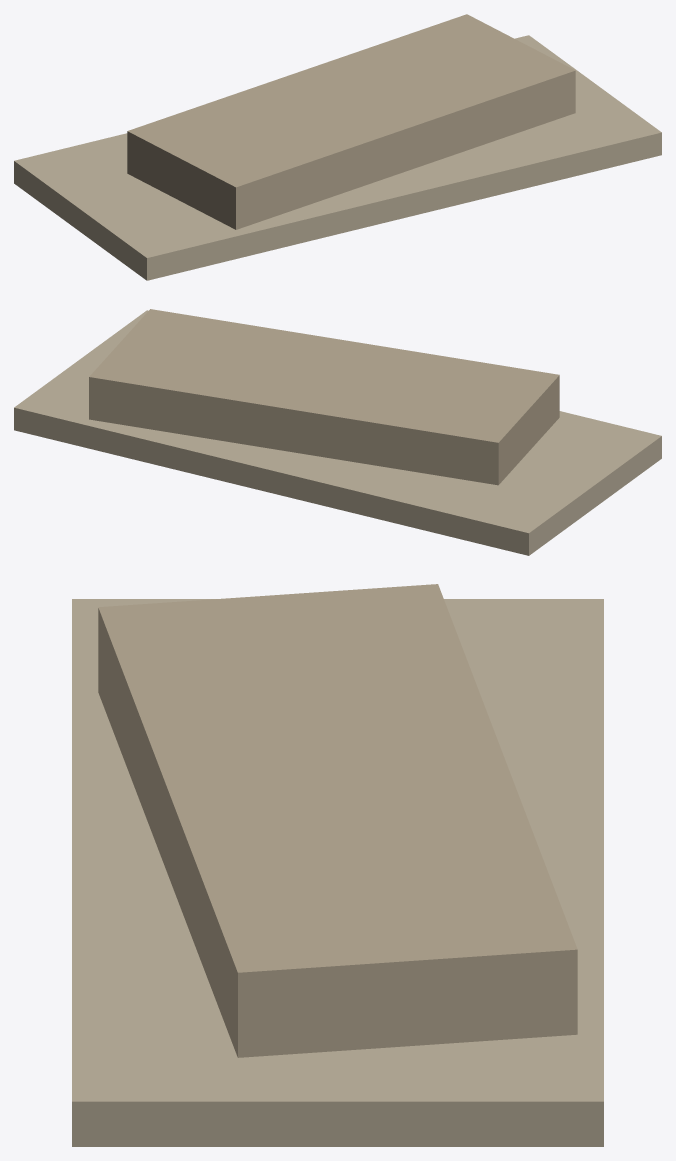
Rendered from dune_backbone.glb.
3 views of the same model, one above another, from view 1: azimuth 30°, elevation 25°; view 2: azimuth 150°, elevation 25°; view 3: azimuth 270°, elevation 25° (orthographic). The views are drawn at different scales.
Visible parts, largest first — view 1: world; view 2: world; view 3: world.
Boxes of the visible parts, <box> form: world: <box>14,14,661,280</box>; world: <box>14,309,661,555</box>; world: <box>72,584,603,1146</box>.
Bounding box in the file's own units: 3.8 × 0.46 × 1.7.
